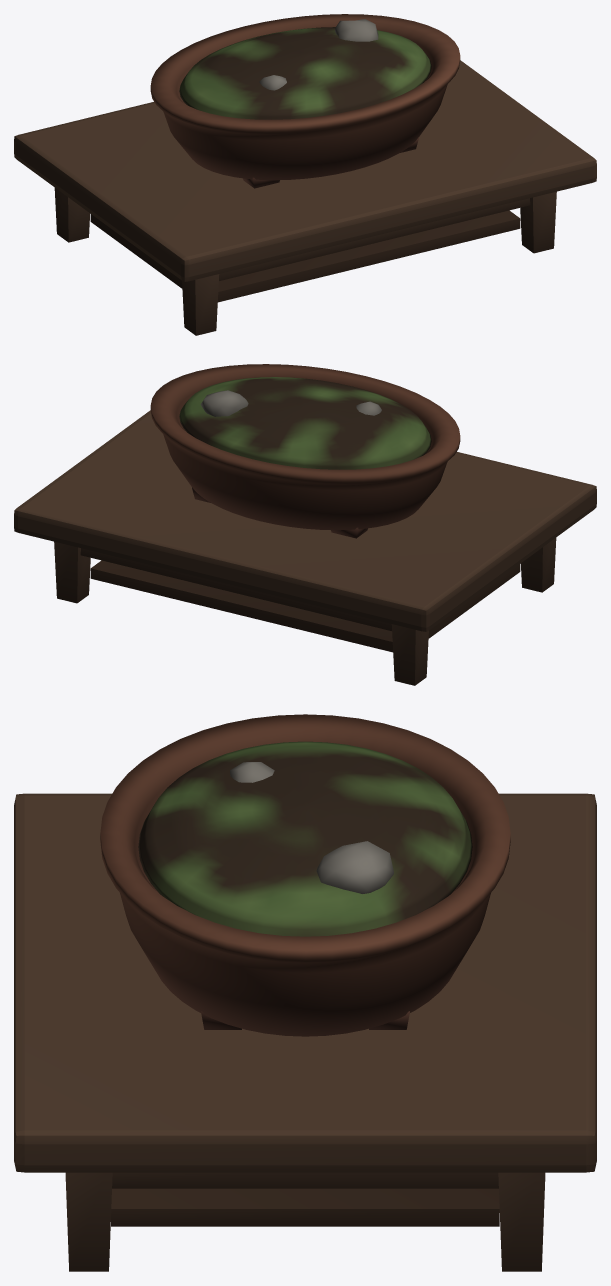
Rendered from BonsaiBase.fbx.
The picture shows the model from 3 angles, top to bottom: view 1: azimuth 30°, elevation 25°; view 2: azimuth 150°, elevation 25°; view 3: azimuth 270°, elevation 25°; orthographic projection. The views are drawn at different scales.
Visible parts, largest first — view 1: BonsaiStand, BonsaiPot, BonsaiSoil, BonsaiRock1; view 2: BonsaiStand, BonsaiPot, BonsaiSoil, BonsaiRock1; view 3: BonsaiStand, BonsaiPot, BonsaiSoil, BonsaiRock1, BonsaiRock2.
Boxes of the visible parts, box(x1,y1,x2,y2) form: BonsaiStand: box(14, 60, 596, 335); BonsaiPot: box(150, 14, 460, 188); BonsaiSoil: box(179, 27, 431, 119); BonsaiRock1: box(335, 19, 378, 41); BonsaiStand: box(14, 410, 596, 685); BonsaiPot: box(150, 364, 460, 538); BonsaiSoil: box(179, 377, 431, 469); BonsaiRock1: box(200, 390, 248, 416); BonsaiStand: box(14, 793, 596, 1271); BonsaiPot: box(100, 714, 510, 1036); BonsaiSoil: box(138, 741, 472, 936); BonsaiRock1: box(316, 841, 393, 893); BonsaiRock2: box(230, 762, 274, 782).
Size of the model in its own units: 0.92 by 0.4125 by 0.66.
